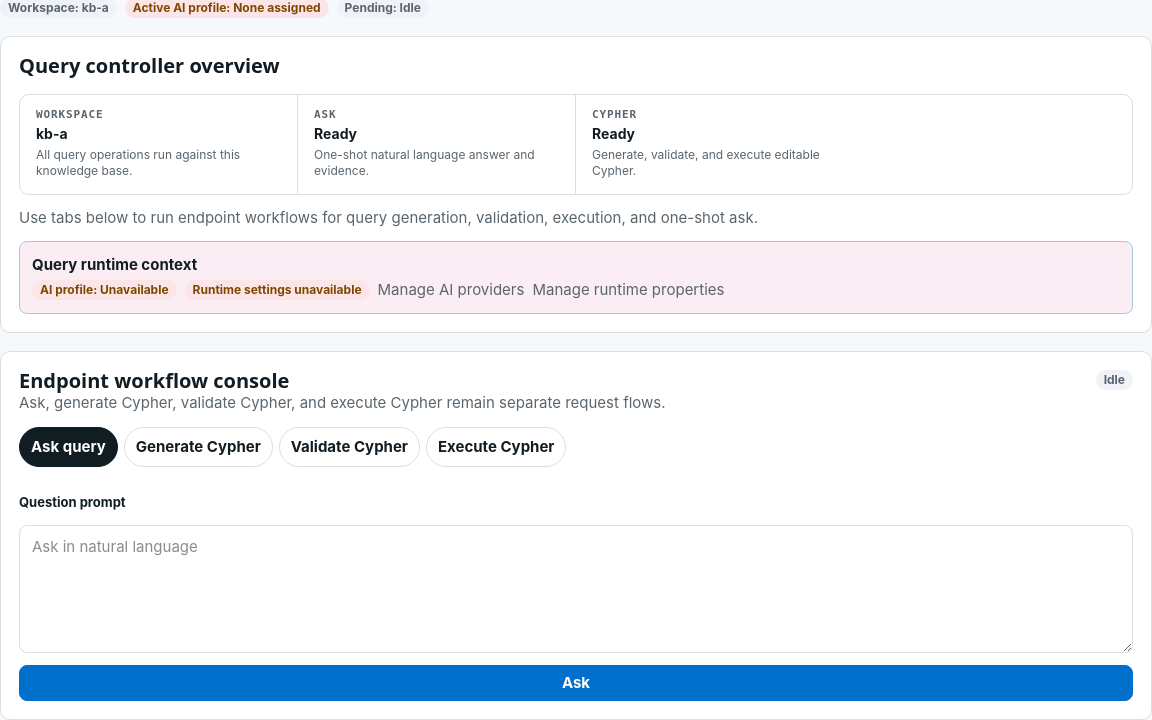
queries page › shows pending indicator and prevents duplicate ask clicks while request is in flight
(page scrolled)
Click the button "Ask" at (576, 683), box [19,665,1133,701]
(page scrolled)
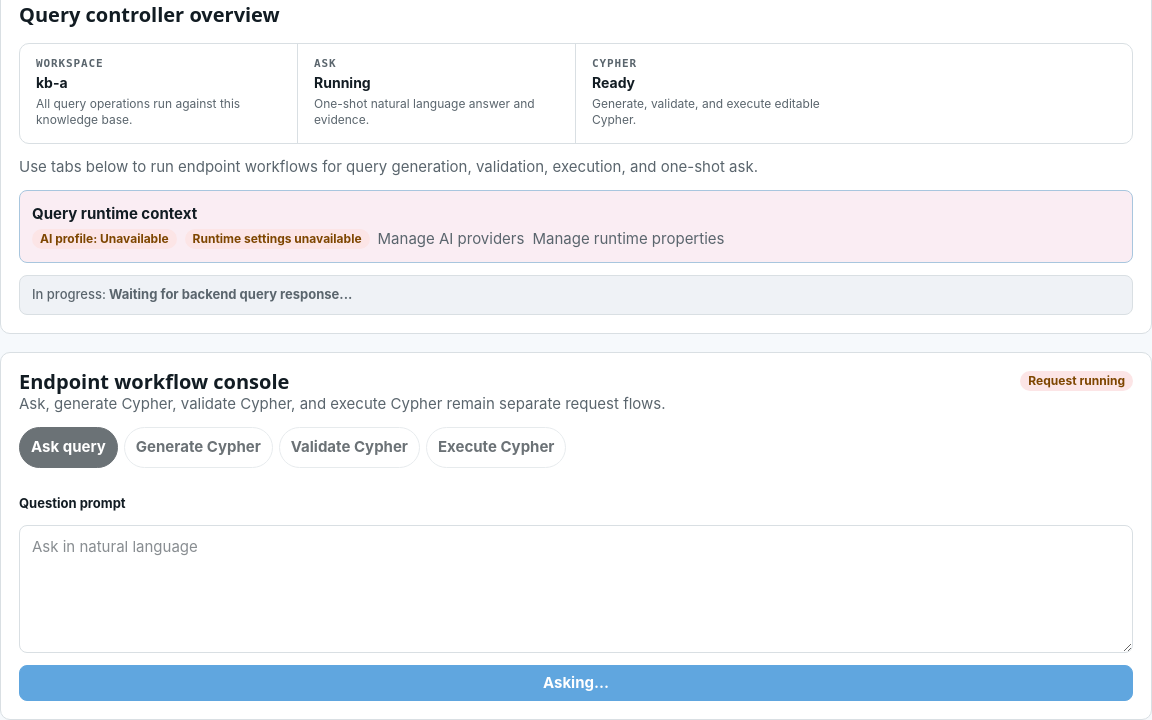
Expected: the text "In progress: Waiting for backend query response..." is shown, [19,275,1133,314]
Expected: the button "Asking..." is disabled
Click the button "Asking..." at (576, 684), box [19,666,1133,702]
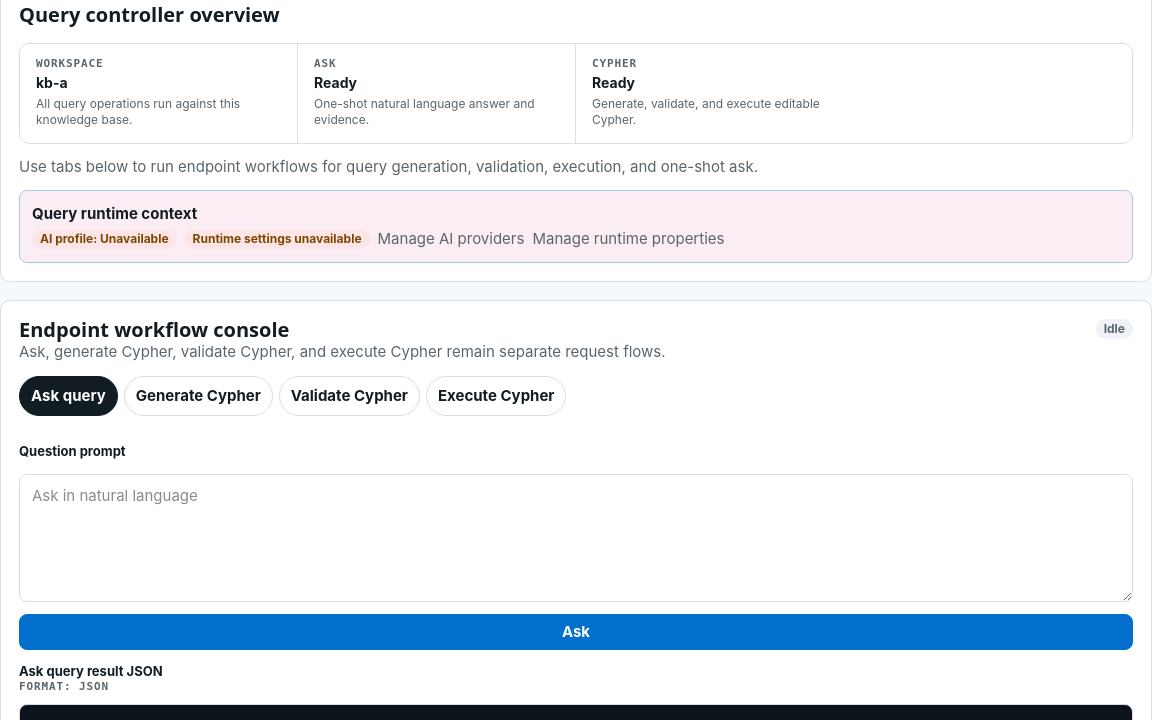
Expected: the text "Waiting for backend query response..." is gone
